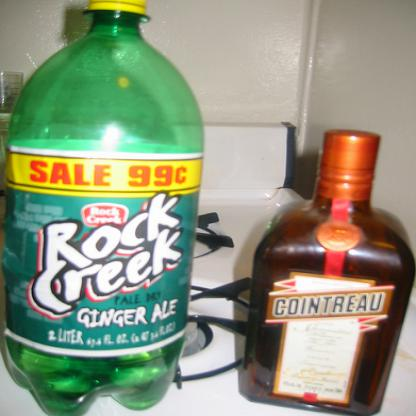bottle: (0, 0, 207, 416), (246, 131, 415, 415)
